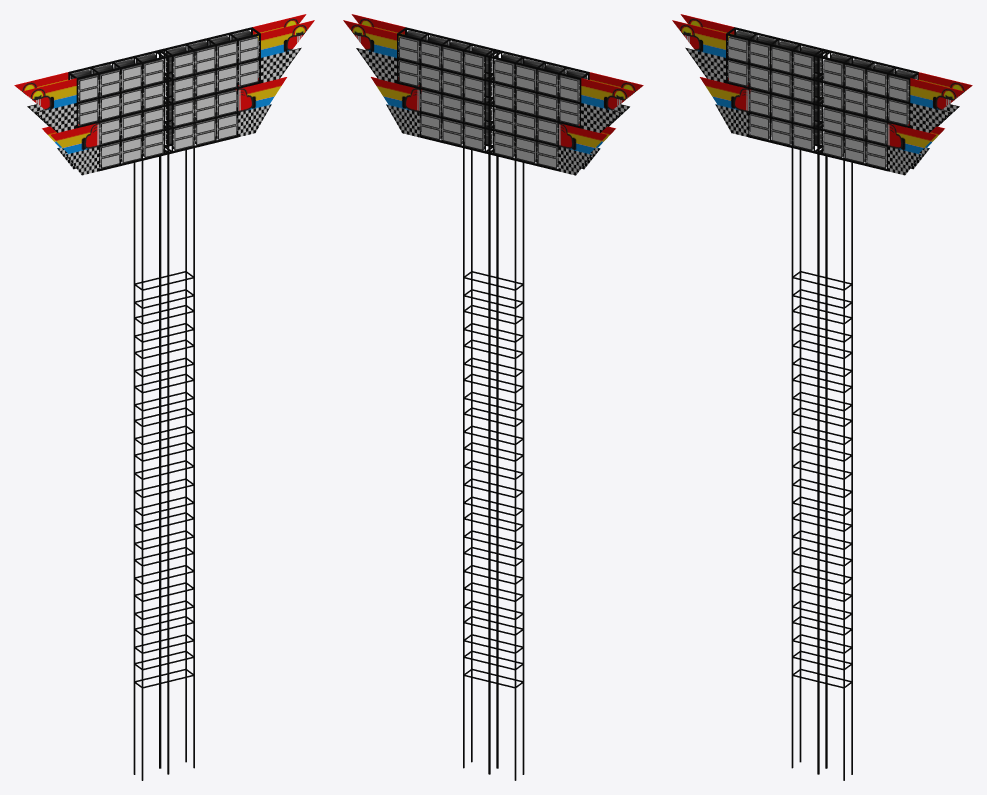
File: type_1.fbx
3 renders of one model, left to right at view 1: azimuth 30°, elevation 25°; view 2: azimuth 150°, elevation 25°; view 3: azimuth 330°, elevation 25°, orthographic.
Visible parts, largest first — view 1: pole_frame.007, light_emmsion, Plane.032, Plane.033, Plane.031; view 2: pole_frame.007, light_emmsion, Plane.030, Plane.031, Plane.032; view 3: pole_frame.007, light_emmsion, Plane.033, Plane.032, Plane.030.
Boxes of the visible parts, <box> form: pole_frame.007: <box>68,27,260,780</box>; light_emmsion: <box>80,38,257,167</box>; Plane.032: <box>22,78,99,175</box>; Plane.033: <box>238,20,314,137</box>; Plane.031: <box>14,72,79,169</box>; pole_frame.007: <box>397,27,589,780</box>; light_emmsion: <box>400,38,577,167</box>; Plane.030: <box>343,20,419,137</box>; Plane.031: <box>558,78,634,175</box>; Plane.032: <box>578,72,643,169</box>; pole_frame.007: <box>726,27,918,780</box>; light_emmsion: <box>729,38,906,167</box>; Plane.033: <box>887,78,964,175</box>; Plane.032: <box>672,20,748,136</box>; Plane.030: <box>907,72,972,169</box>.
Bounding box in the file's own units: 4011 × 9426 × 224.
